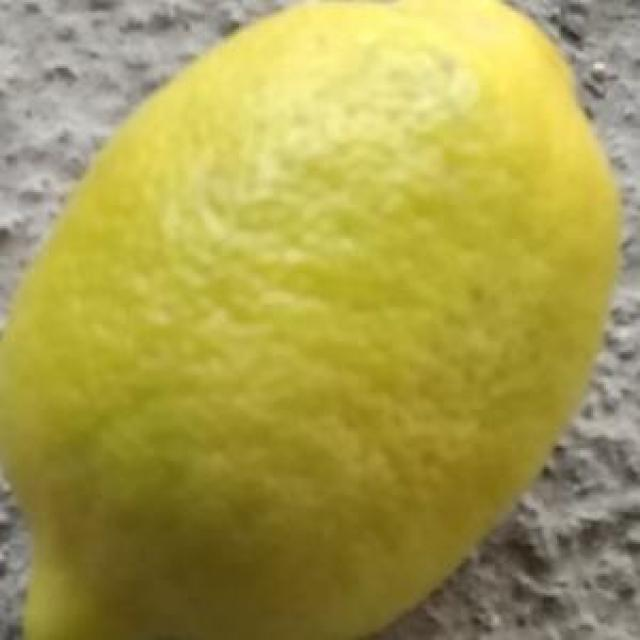lemon: (3, 5, 640, 640)
